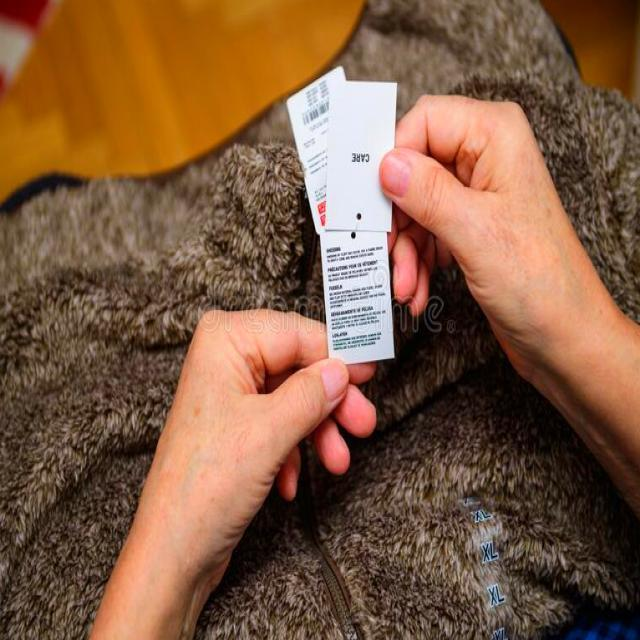clothes: (29, 186, 134, 556)
